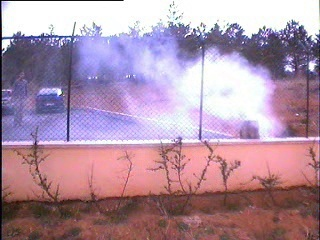smoke: (132, 30, 282, 138)
